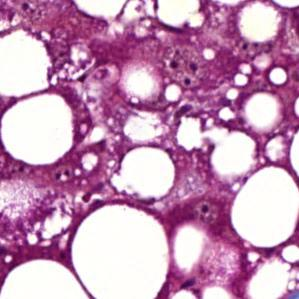steatosis: (0, 93, 80, 166), (233, 167, 298, 239), (117, 148, 177, 200)
